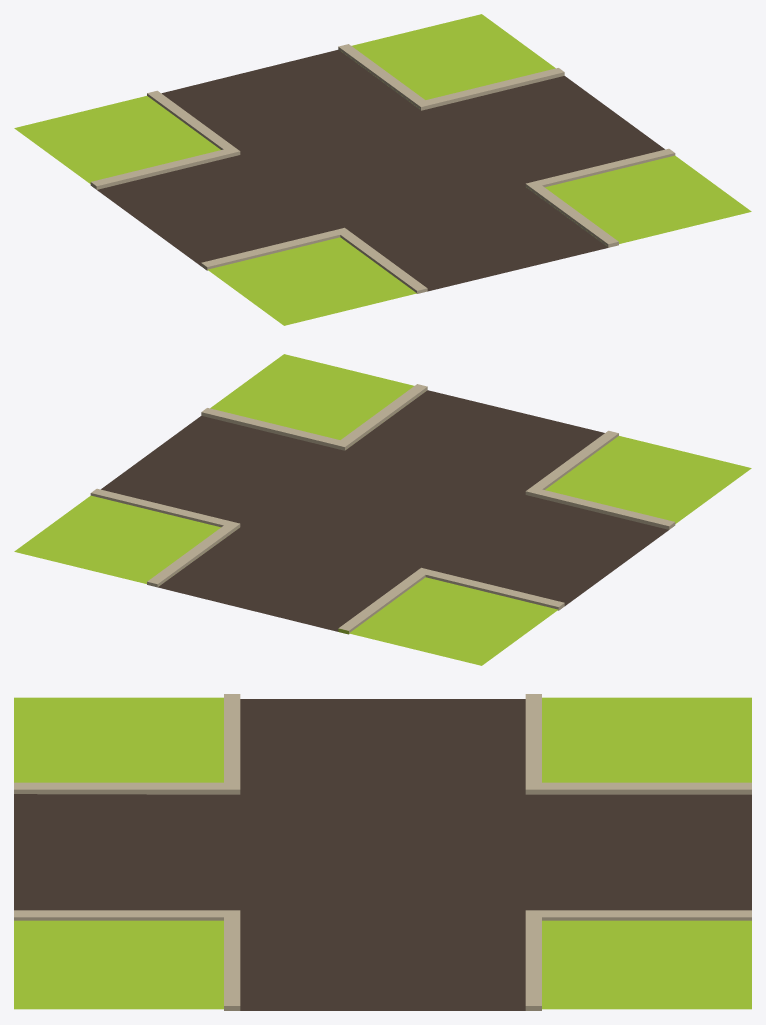
File: crossroad.fbx
The picture shows the model from 3 angles, top to bottom: view 1: azimuth 30°, elevation 25°; view 2: azimuth 150°, elevation 25°; view 3: azimuth 270°, elevation 25°; orthographic projection. The views are drawn at different scales.
Visible parts, largest first — view 1: Crossroad; view 2: Crossroad; view 3: Crossroad.
Part boxes in pixels (<box>): Crossroad: <box>14,14,751,325</box>; Crossroad: <box>14,354,751,665</box>; Crossroad: <box>14,694,751,1010</box>.
Size of the model in its own units: 4 by 0.0297 by 4.
